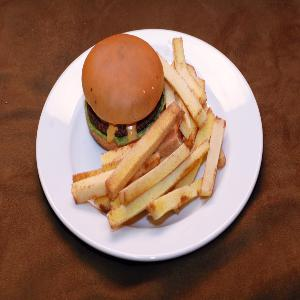cheeseburger: (78, 34, 165, 148)
fries: (64, 122, 252, 225)
